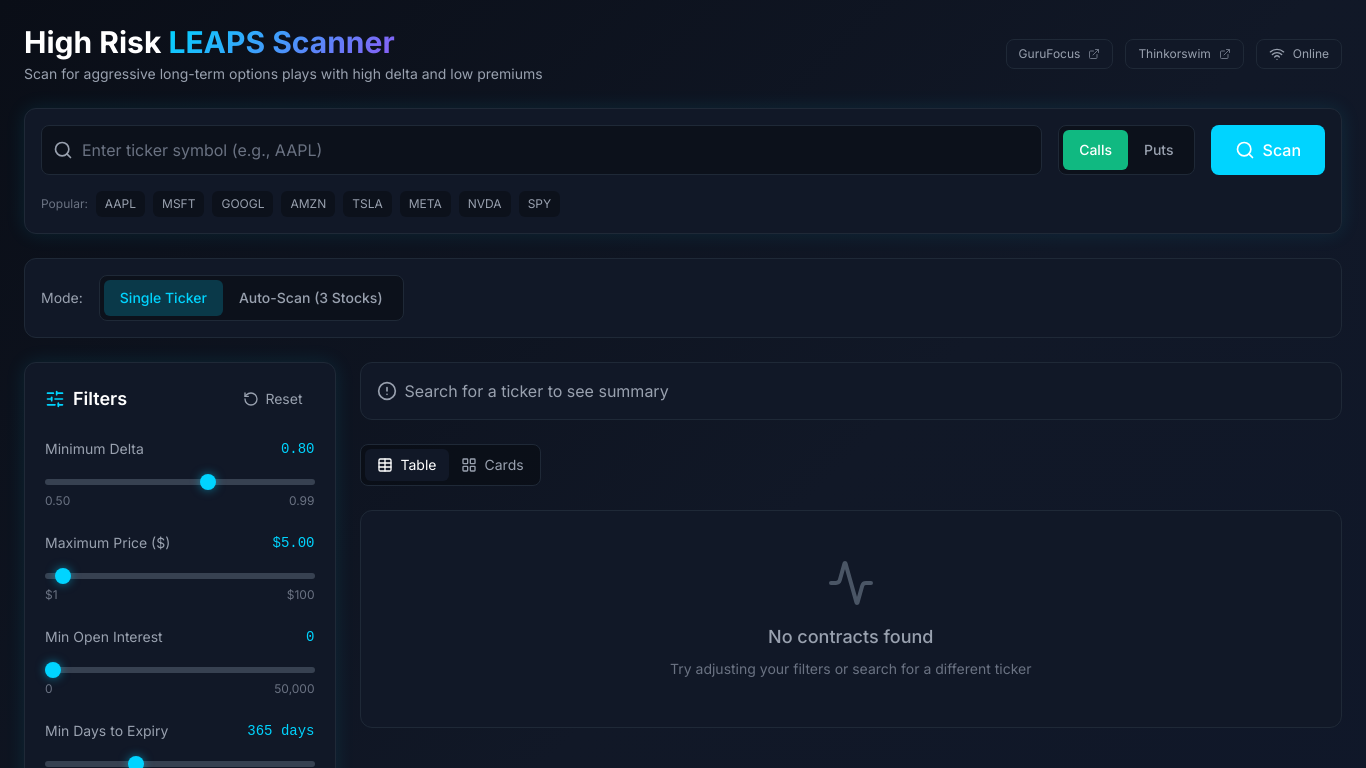
Test case: OptionScanner Integration › Refresh Functionality › should show refresh button after search
This screenshot has width=1366, height=768.
Type "AAPL" into the field with placeholder "Enter ticker symbol (e.g., AAPL)" at (542, 150), box [41,125,1042,175]
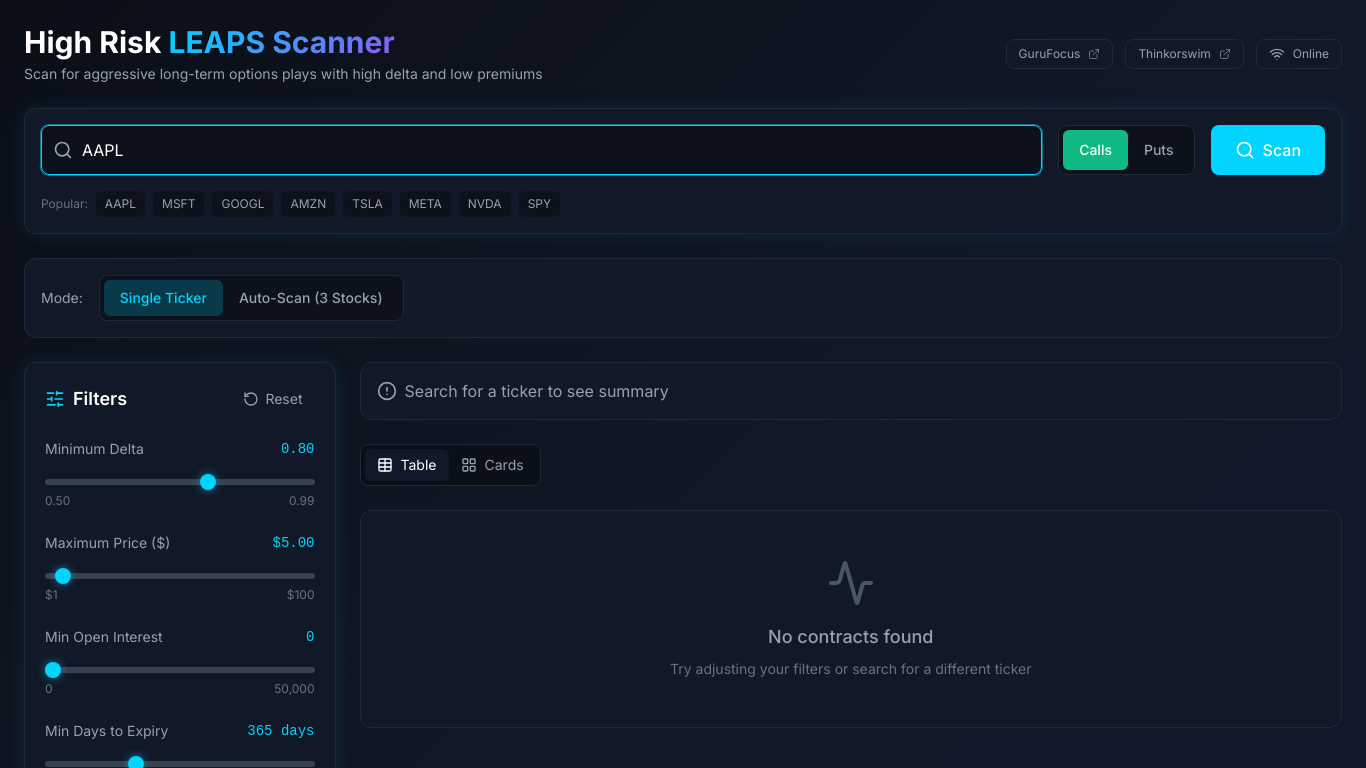
Click the button "Scan" at (1268, 150), box [1211,125,1325,175]
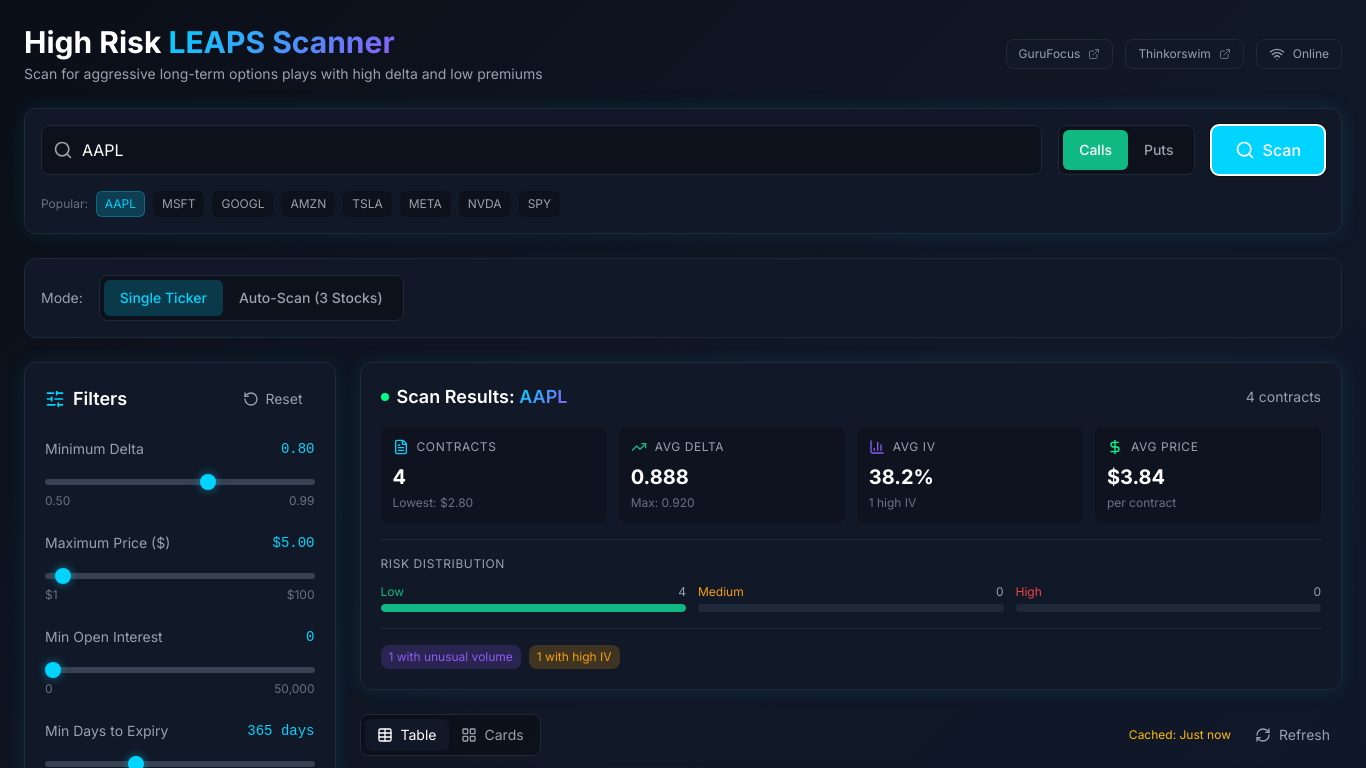
Result: the button "Refresh" is shown at [1243,719,1342,751]
